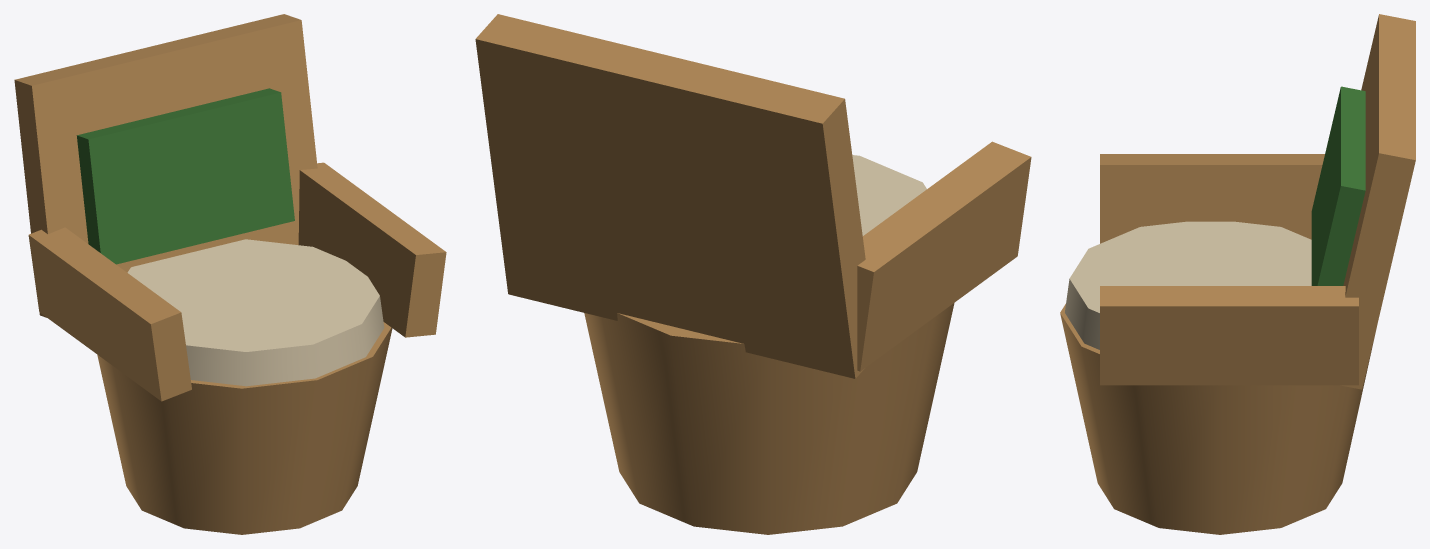
The model's file is rattan_chair.glb.
3 renders of one model, left to right at view 1: azimuth 30°, elevation 25°; view 2: azimuth 150°, elevation 25°; view 3: azimuth 270°, elevation 25°, orthographic. The views are drawn at different scales.
Visible parts, largest first — view 1: Part0, Part2, Part5, Part1, Part3, Part4; view 2: Part2, Part0, Part3, Part1; view 3: Part0, Part4, Part3, Part1, Part2, Part5.
Part boxes in pixels (box(x1,y1,x2,y2)): Part0: box(97, 322, 392, 534); Part2: box(14, 14, 317, 317); Part5: box(76, 88, 294, 264); Part1: box(127, 239, 384, 386); Part3: box(28, 227, 191, 401); Part4: box(298, 162, 446, 337); Part2: box(475, 14, 865, 378); Part0: box(584, 303, 954, 534); Part3: box(857, 141, 1031, 371); Part1: box(852, 155, 926, 235); Part0: box(1060, 304, 1375, 534); Part4: box(1100, 286, 1358, 385); Part3: box(1100, 154, 1324, 243); Part1: box(1065, 221, 1311, 349); Part2: box(1340, 14, 1415, 389); Part5: box(1311, 86, 1365, 285).
Size of the model in its own units: 0.7671 by 0.9373 by 0.7563.
